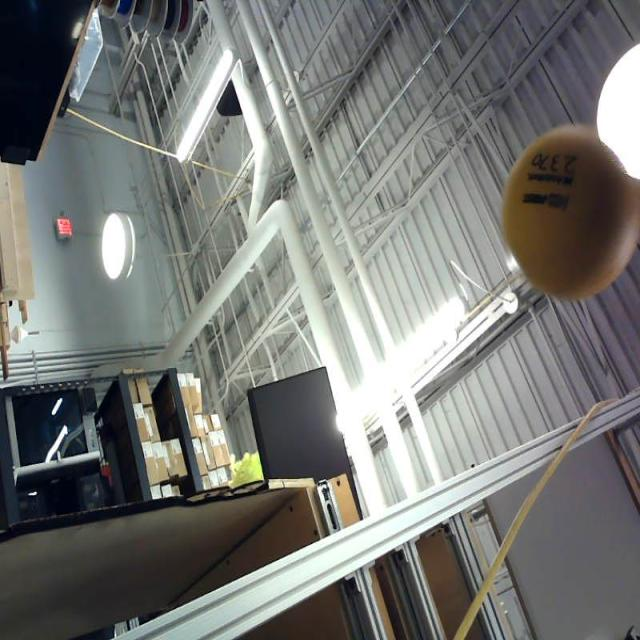Fuel: (503, 127, 640, 300)
